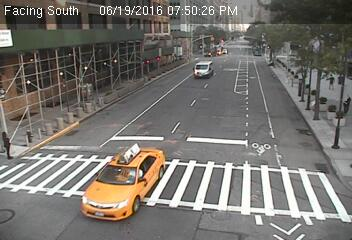pos: (341, 93, 351, 112), (337, 71, 349, 86), (327, 71, 338, 86)
